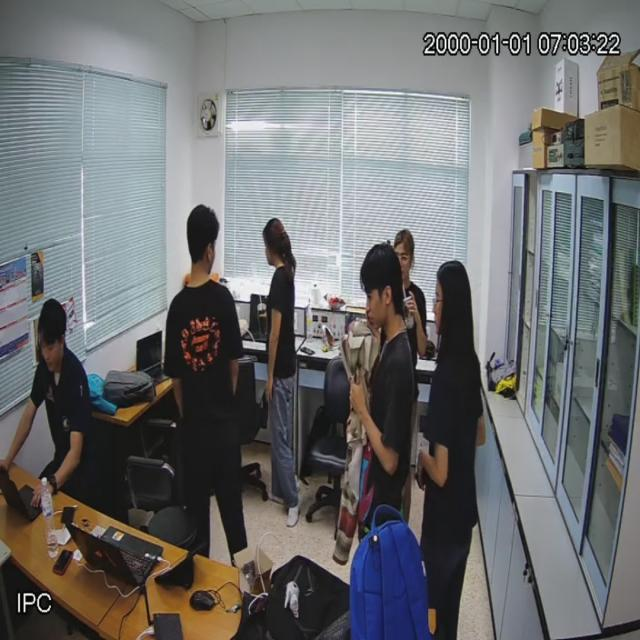normal: (168, 199, 250, 566), (421, 264, 485, 640), (350, 245, 412, 530), (13, 300, 98, 499), (261, 217, 299, 525)
